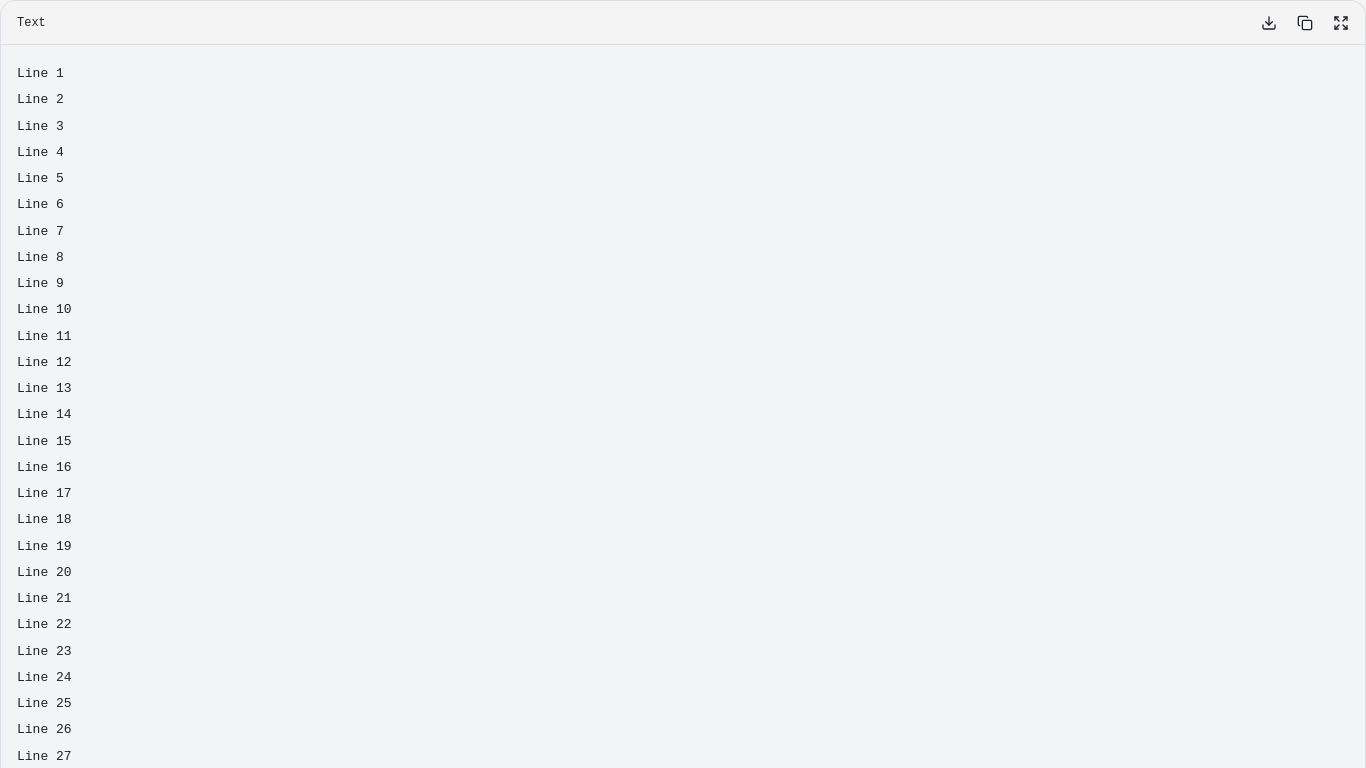
Shared copy block behavior › opens the complete long text rather than only the clipped preview
Click the button named "Open code full screen": (1341, 22) [1325,6,1357,38]
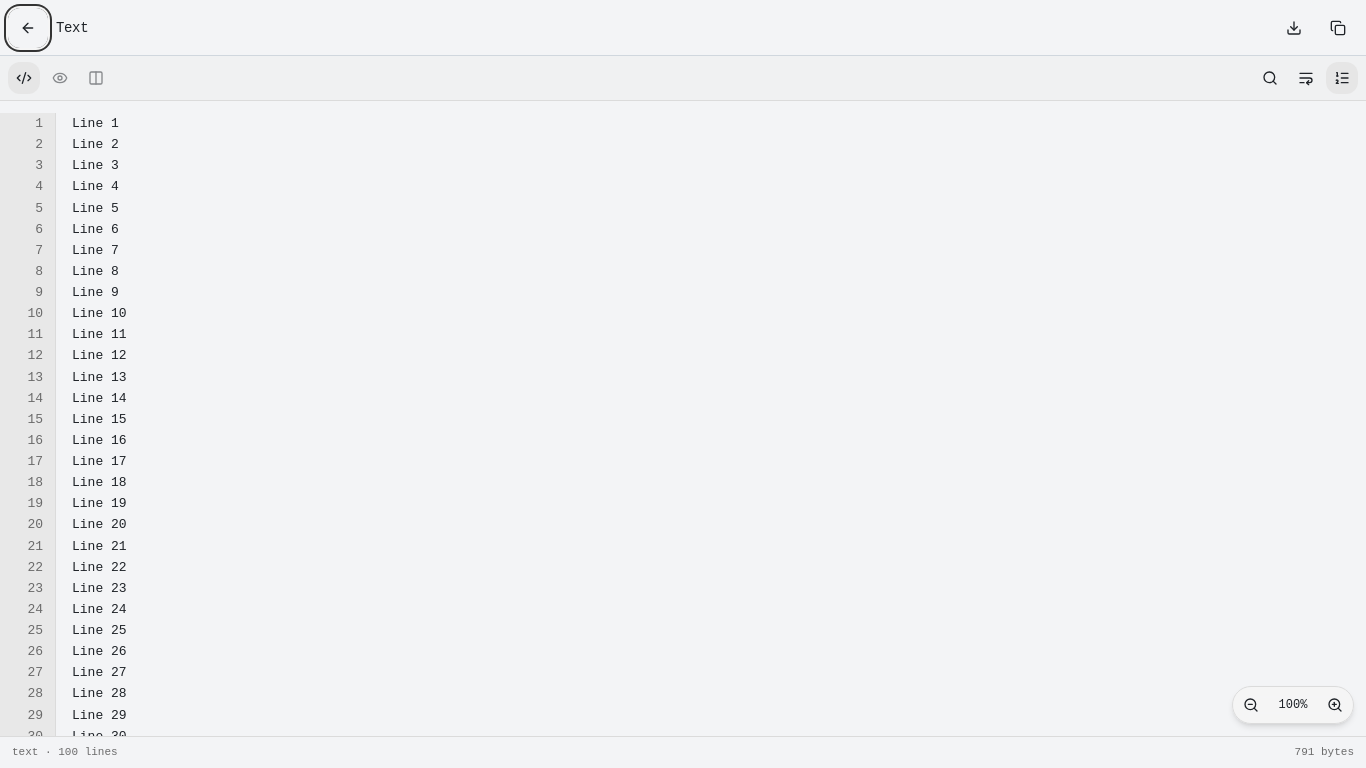
Click the button named "Back": (28, 28) [8,8,48,48]
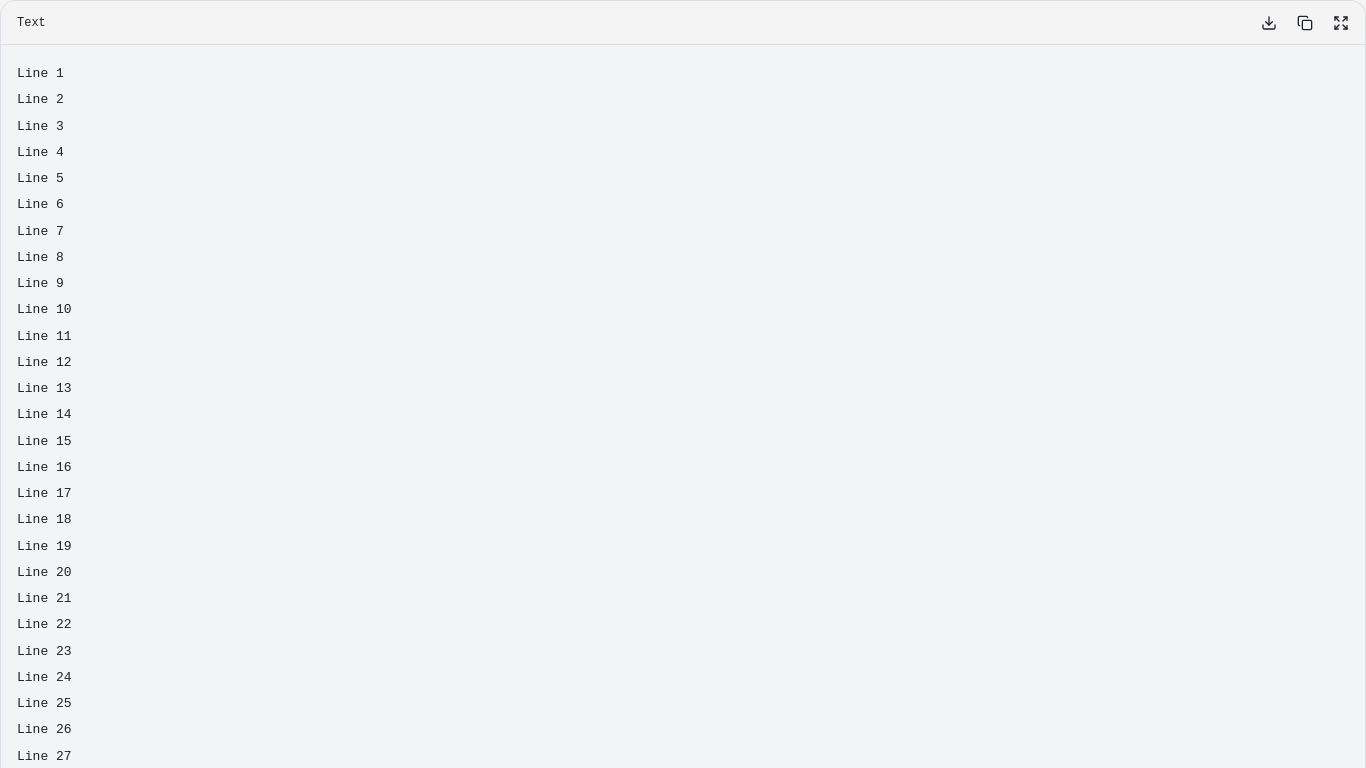
Now the dialog is gone
